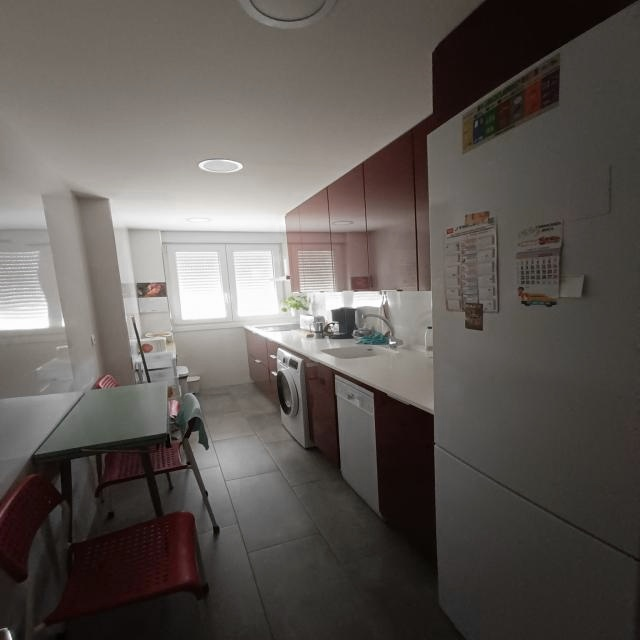cabinet: (430, 0, 640, 128), (285, 116, 433, 293), (370, 388, 436, 553), (296, 354, 340, 463), (246, 330, 280, 395)
chair: (0, 474, 202, 640), (96, 393, 220, 534), (95, 374, 120, 392), (169, 400, 180, 419)
countertop: (244, 326, 434, 408)
fridge: (424, 1, 640, 640)
shower: (362, 314, 403, 347), (320, 345, 400, 359)
sofa: (255, 324, 300, 332)
stove: (32, 381, 168, 533), (141, 452, 164, 518)
